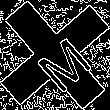M_NW: (21, 21, 89, 89)
